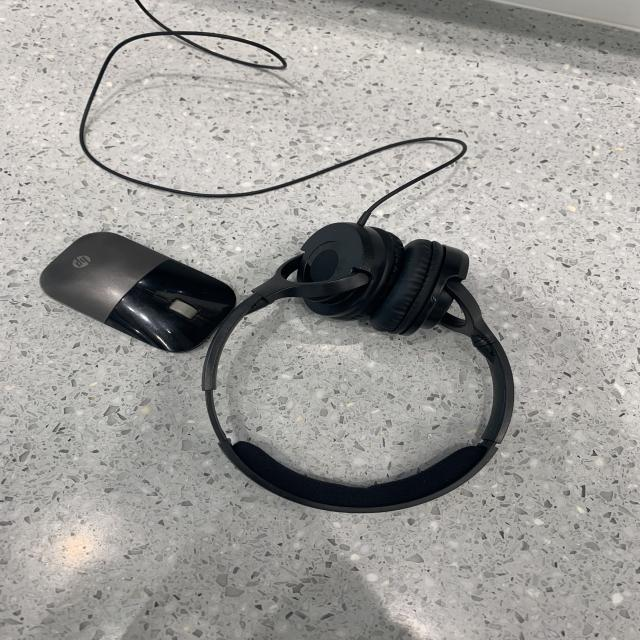Mouse: (31, 225, 246, 360)
